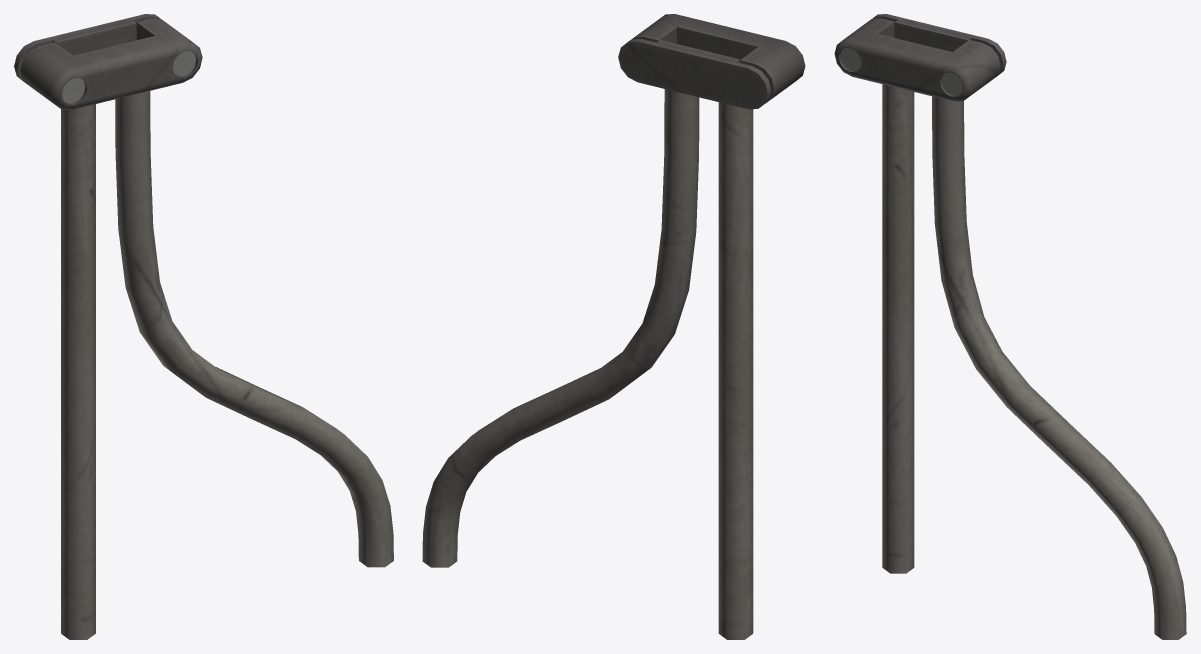
File: cable_to_double_3.glb
3 views of the same model, side by side, from view 1: azimuth 30°, elevation 25°; view 2: azimuth 150°, elevation 25°; view 3: azimuth 330°, elevation 25° (orthographic). The views are drawn at different scales.
Visible parts, largest first — view 1: cable_to_double_3.001; view 2: cable_to_double_3.001; view 3: cable_to_double_3.001.
Part boxes in pixels (<box>): cable_to_double_3.001: <box>14,14,393,639</box>; cable_to_double_3.001: <box>422,14,805,639</box>; cable_to_double_3.001: <box>834,14,1186,639</box>.
Size of the model in its own units: 0.1327 by 0.2073 by 0.0259.
1 material, 1 textured.
